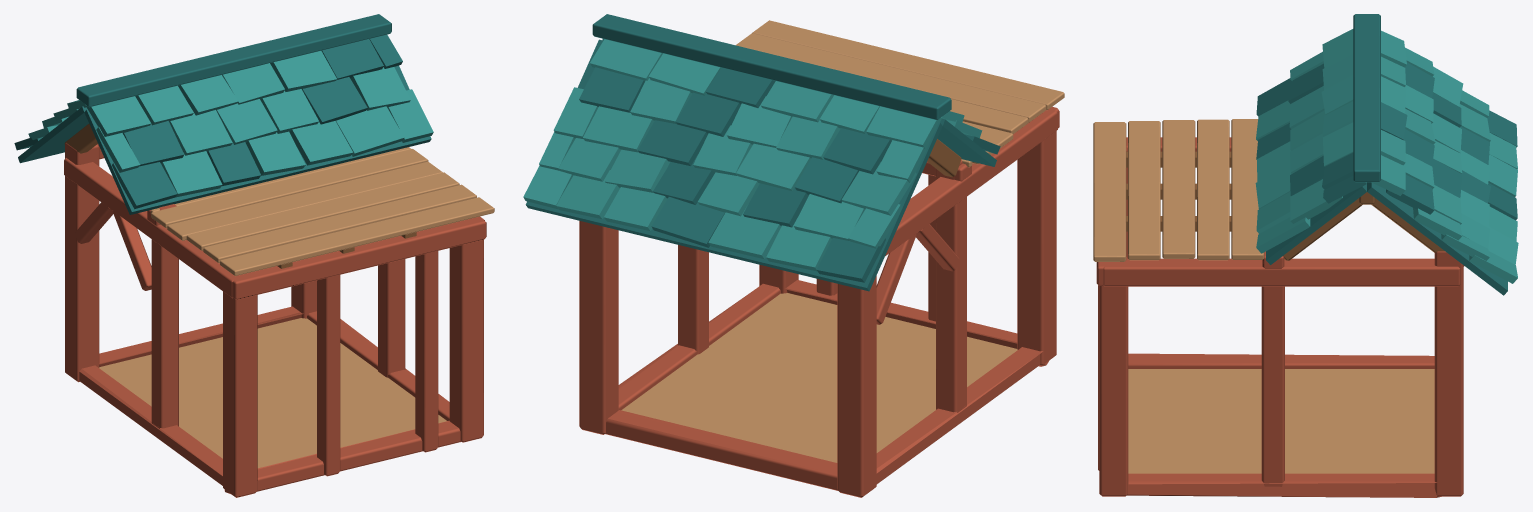
Rendered from goat-shelter-roof.glb.
The picture shows the model from 3 angles, left to right: view 1: azimuth 30°, elevation 25°; view 2: azimuth 150°, elevation 25°; view 3: azimuth 270°, elevation 25°; orthographic projection. The views are drawn at different scales.
Visible parts, largest first — view 1: posts, shingles, deck_boards, floor, plates, sills, shingles_dark, ridge_cap, roof_boards, ridge_rafters; view 2: shingles, posts, floor, shingles_dark, sills, deck_boards, ridge_cap, plates, roof_boards, ridge_rafters; view 3: floor, shingles, deck_boards, posts, sills, shingles_dark, plates, ridge_cap, roof_boards, ridge_rafters, deck_joists.
Boxes of the visible parts, x1,y1,x2,y2 form: posts: (65,143,483,497); shingles: (28,51,433,197); deck_boards: (150,147,494,275); floor: (99,318,446,468); plates: (64,144,486,299); sills: (79,306,461,493); shingles_dark: (14,34,402,209); ridge_cap: (76,14,391,107); roof_boards: (18,65,431,214); ridge_rafters: (64,123,97,153); shingles: (523,39,982,271); posts: (579,112,1056,497); floor: (621,293,1017,462); shingles_dark: (579,67,1000,282); sills: (605,280,1049,490); deck_boards: (736,20,1064,167); ridge_cap: (592,14,951,119); plates: (876,106,1059,324); roof_boards: (525,39,996,291); ridge_rafters: (927,139,961,177); floor: (1128,369,1434,473); shingles: (1255,29,1518,283); deck_boards: (1093,119,1264,261); posts: (1098,147,1463,496); sills: (1127,353,1441,497); shingles_dark: (1256,62,1517,220); plates: (1096,137,1463,286); ridge_cap: (1353,14,1380,182); roof_boards: (1266,182,1507,295); ridge_rafters: (1283,192,1444,260); deck_joists: (1126,151,1231,231).
Size of the model in its own units: 2.7 by 2.73 by 3.08.
